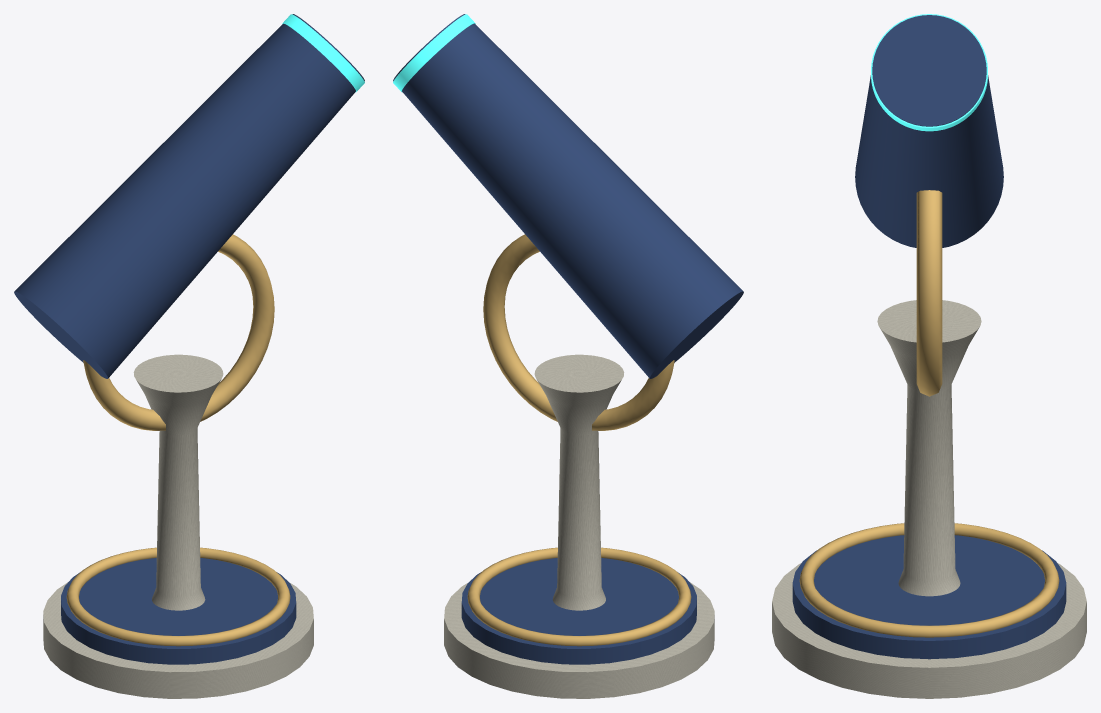
File: arcane-academy-and-spell-trials-telescope-404f2cb1__28288.glb
3 renders of one model, left to right at view 1: azimuth 30°, elevation 25°; view 2: azimuth 150°, elevation 25°; view 3: azimuth 270°, elevation 25°, orthographic. The views are drawn at different scales.
Visible parts, largest first — view 1: telescope; view 2: telescope; view 3: telescope.
Part boxes in pixels (<box>): telescope: <box>14,14,364,698</box>; telescope: <box>393,14,743,698</box>; telescope: <box>772,14,1086,698</box>.
Bounding box in the file's own units: 1.54 × 2.65 × 1.1.
Materials: 4 (1 with a texture image).
